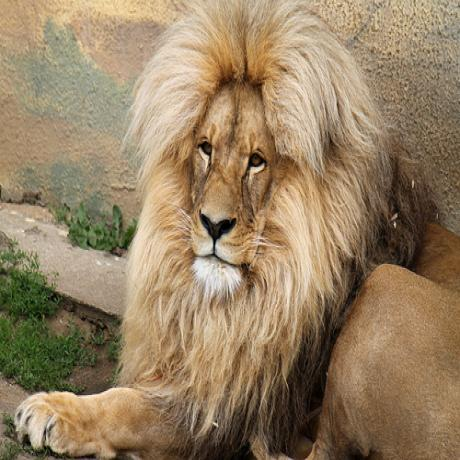Lion: (17, 0, 460, 460)
